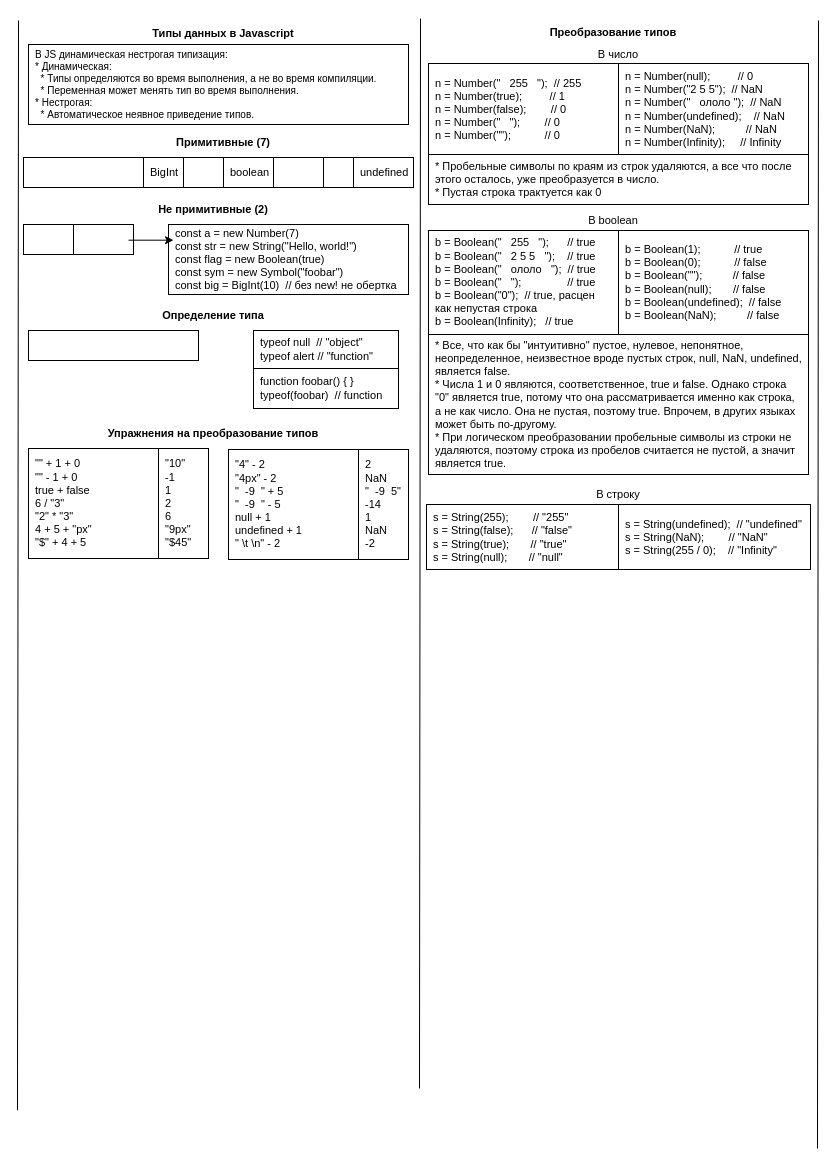
The diagram is 837 pixels wide and 1167 high, and some of its shapes have lost their labels. Here are the shapes that lost their labels. From the top down, the box of each, then its label:
(22, 156, 144, 188): number (зн.Infinity, -Infinity, NaN)
(182, 156, 414, 188): string
(272, 156, 414, 188): symbol
(322, 156, 414, 188): null
(22, 224, 74, 254): object
(72, 224, 134, 254): Обертки
(28, 330, 198, 360): if ( typeof (foo) === "number" )
